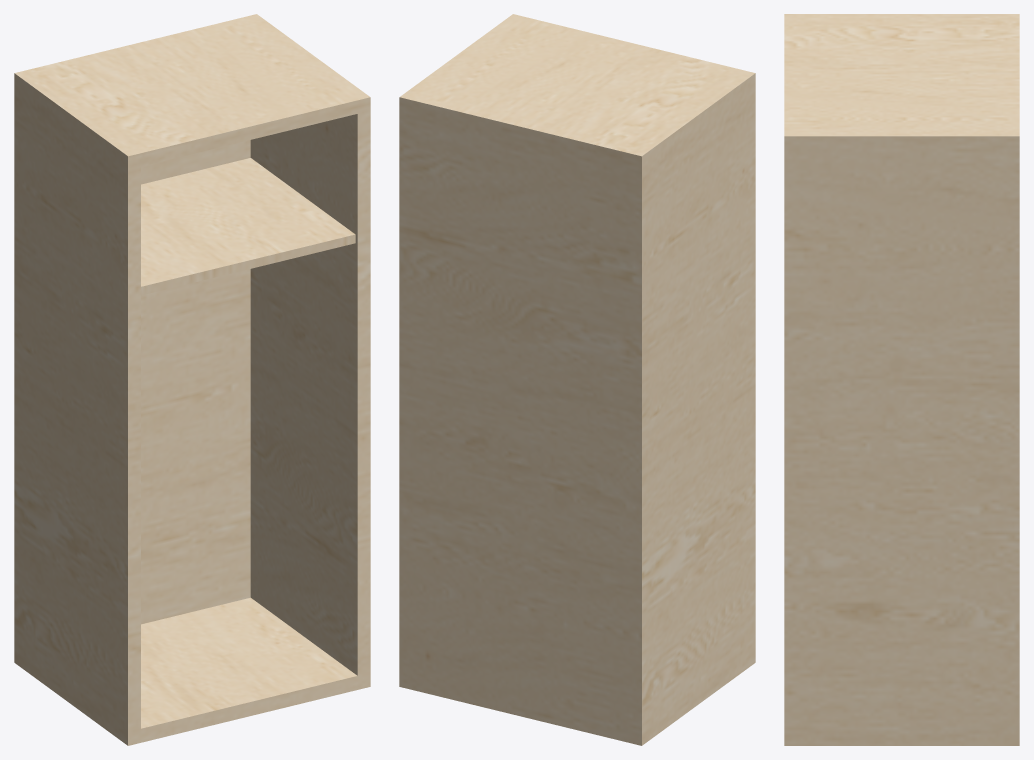
Rendered from Closet11.fbx.
The picture shows the model from 3 angles, left to right: view 1: azimuth 30°, elevation 25°; view 2: azimuth 150°, elevation 25°; view 3: azimuth 270°, elevation 25°; orthographic projection. The views are drawn at different scales.
Parts seen in each view (by area): view 1: Closet11; view 2: Closet11; view 3: Closet11.
Part boxes in pixels (x1,y1,x2,y2): Closet11: (14,14,370,745); Closet11: (399,14,755,745); Closet11: (784,14,1019,745).
Size of the model in its own units: 109 by 254 by 88.93.
